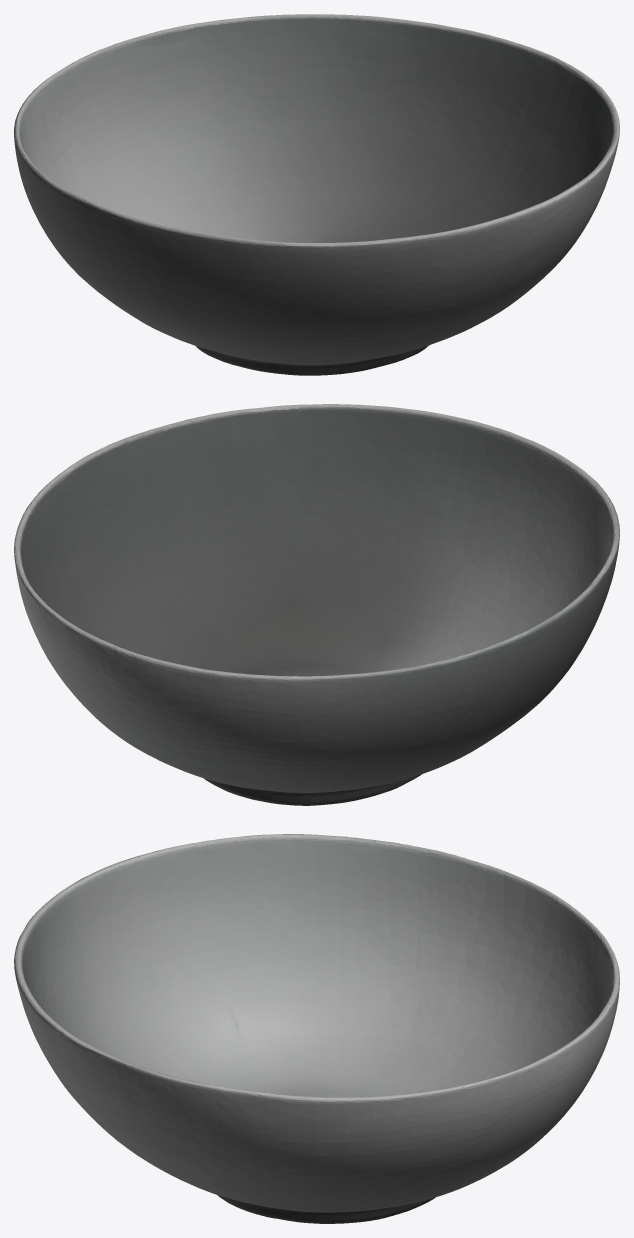
3 views of the same model, one above another, from view 1: azimuth 30°, elevation 25°; view 2: azimuth 150°, elevation 25°; view 3: azimuth 270°, elevation 25° (orthographic).
Parts seen in each view (by area): view 1: world; view 2: world; view 3: world.
Part boxes in pixels (box(x1,y1,x2,y2)): world: box(14, 14, 619, 375); world: box(14, 404, 619, 805); world: box(14, 834, 619, 1223).
Size of the model in its own units: 0.1321 by 0.0525 by 0.1321.
1 material, 1 textured.
